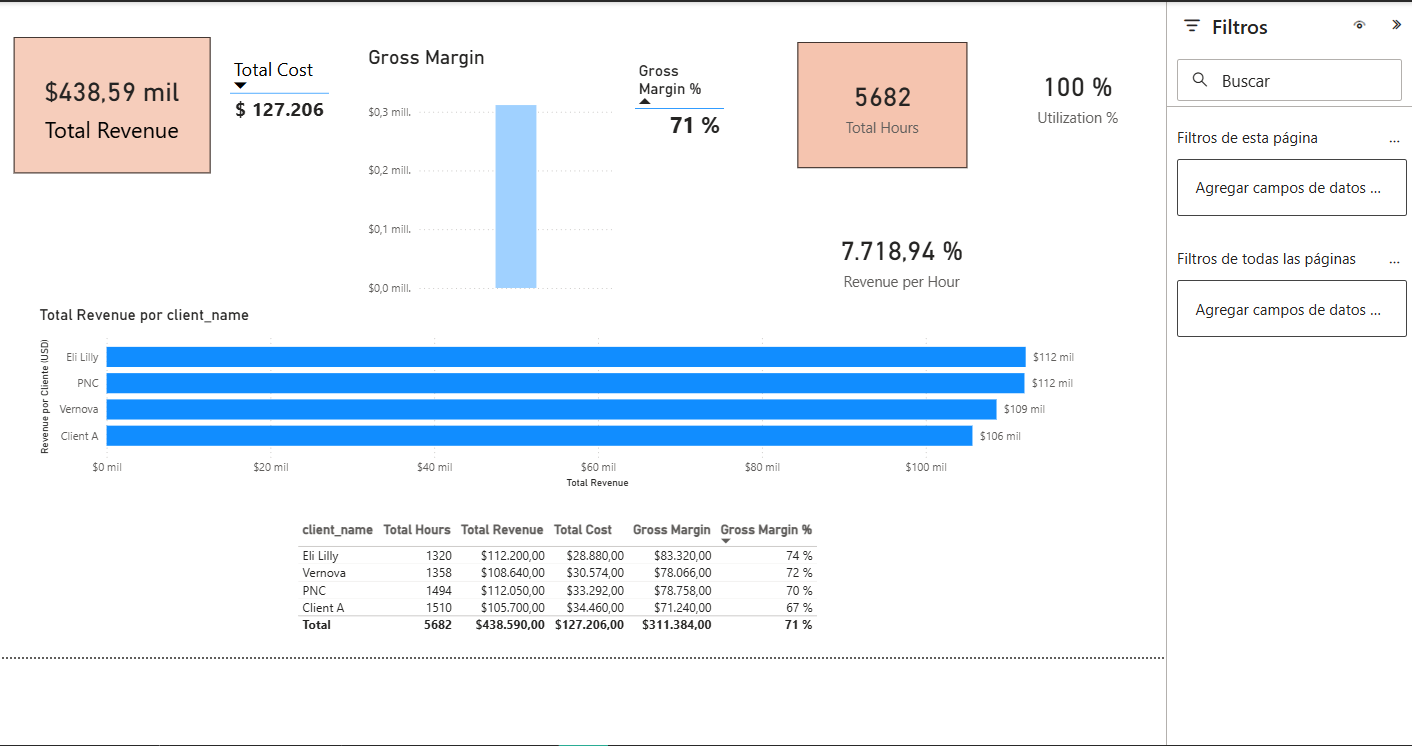

The dashboard page shown, as its layout file describes it:
{"tool":"powerbi","page":{"name":"PAGINA PRINCIPAL","canvas":[1280,720],"ordinal":0},"visuals":[{"type":"clusteredColumnChart","fields":{"Y":["time_entries.Gross Margin"]},"box":[399.8,47.7,280.1,280.1],"z":0},{"type":"tableEx","fields":{"Values":["time_entries.Total Cost"]},"box":[246.1,53.5,162.4,140.1],"z":1000},{"type":"tableEx","fields":{"Values":["time_entries.Gross Margin %"]},"box":[690.6,59.3,119.6,107],"z":2000},{"type":"card","fields":{"Values":["time_entries.Total Hours"]},"box":[875.4,43.8,186.7,138.1],"z":3000},{"type":"card","fields":{"Values":["time_entries.Total Revenue"]},"box":[14.6,37.9,215.9,149.8],"z":4000},{"type":"card","fields":{"Values":["time_entries.Utilization %"]},"box":[1087.4,53.5,192.6,98.2],"z":5000},{"type":"clusteredBarChart","fields":{"Category":["projects.client_name"],"Y":["time_entries.Total Revenue"]},"box":[37.9,333.6,1184.7,205.2],"z":6000},{"type":"tableEx","fields":{"Values":["projects.client_name","time_entries.Total Hours","time_entries.Total Revenue","time_entries.Total Cost","time_entries.Gross Margin","time_entries.Gross Margin %"]},"box":[321,565.1,686.7,154.7],"z":7000},{"type":"card","fields":{"Values":["time_entries.Revenue per Hour"]},"box":[741.2,204.3,498,155.6],"z":8000}]}

Visuals, with their boxes on the page's 1280x720 design canvas (x1, y1, x2, y2). These are canvas units, not pixel positions in the 1412x746 screenshot, which may show the page scaled, cropped or inside an application window:
clusteredColumnChart - time_entries.Gross Margin: x1=400 y1=48 x2=680 y2=328
tableEx - time_entries.Total Cost: x1=246 y1=54 x2=408 y2=194
tableEx - time_entries.Gross Margin %: x1=691 y1=59 x2=810 y2=166
card - time_entries.Total Hours: x1=875 y1=44 x2=1062 y2=182
card - time_entries.Total Revenue: x1=15 y1=38 x2=230 y2=188
card - time_entries.Utilization %: x1=1087 y1=54 x2=1280 y2=152
clusteredBarChart - projects.client_name x time_entries.Total Revenue: x1=38 y1=334 x2=1223 y2=539
tableEx - projects.client_name x time_entries.Total Hours: x1=321 y1=565 x2=1008 y2=720
card - time_entries.Revenue per Hour: x1=741 y1=204 x2=1239 y2=360
